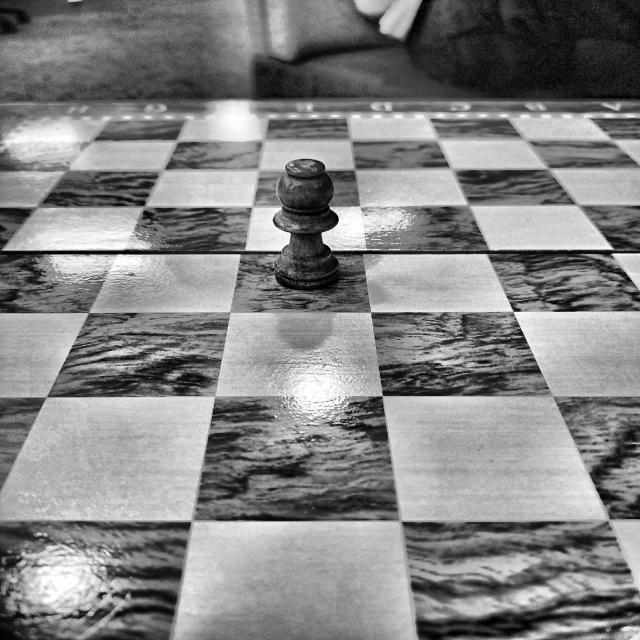black-bishop: (274, 158, 339, 289)
